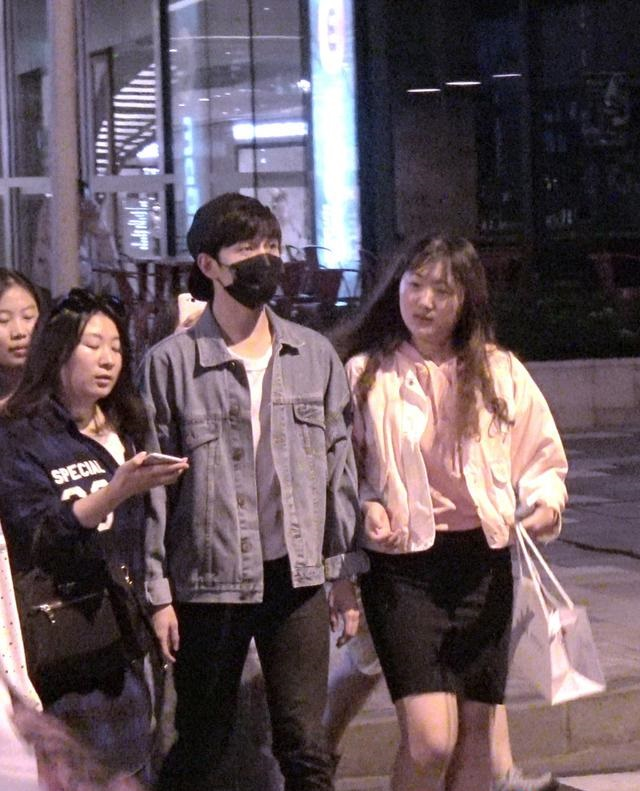face: (400, 254, 459, 339), (68, 314, 120, 398), (1, 289, 36, 365)
face_mask: (218, 226, 278, 310)
